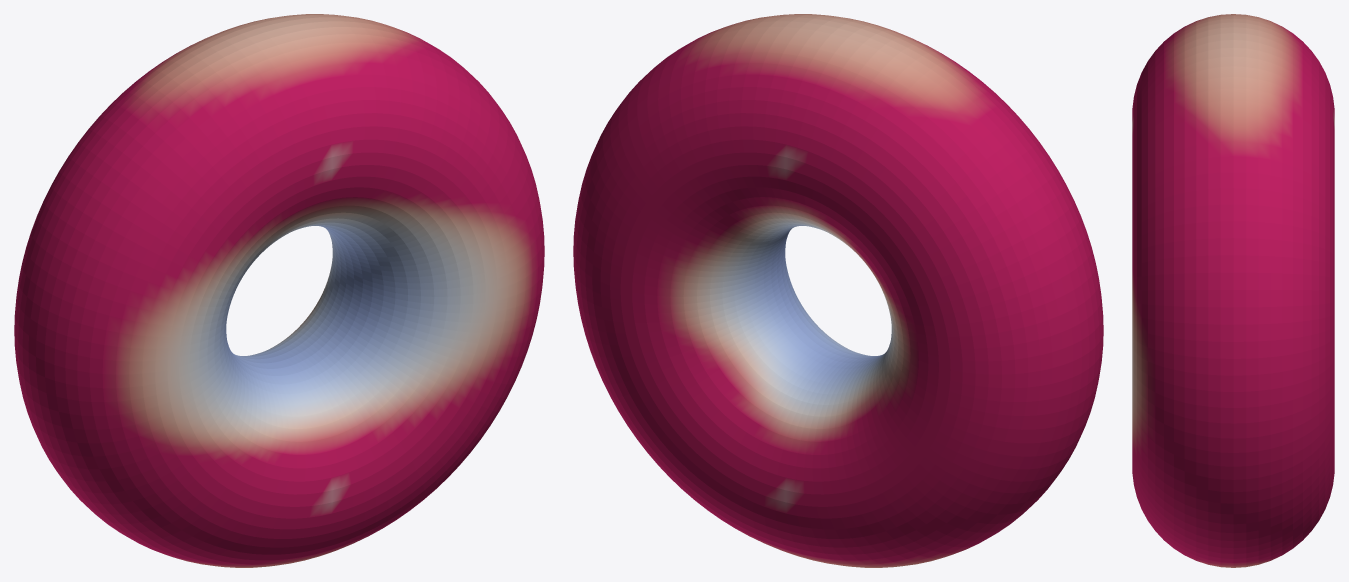
The picture shows the model from 3 angles, left to right: view 1: azimuth 30°, elevation 25°; view 2: azimuth 150°, elevation 25°; view 3: azimuth 270°, elevation 25°; orthographic projection. The views are drawn at different scales.
Visible parts, largest first — view 1: world; view 2: world; view 3: world.
Part boxes in pixels (x1=…): world: x1=14, y1=14, x2=544, y2=567; world: x1=573, y1=14, x2=1103, y2=567; world: x1=1132, y1=14, x2=1334, y2=567.
Size of the model in its own units: 27.33 by 27.33 by 9.98.
